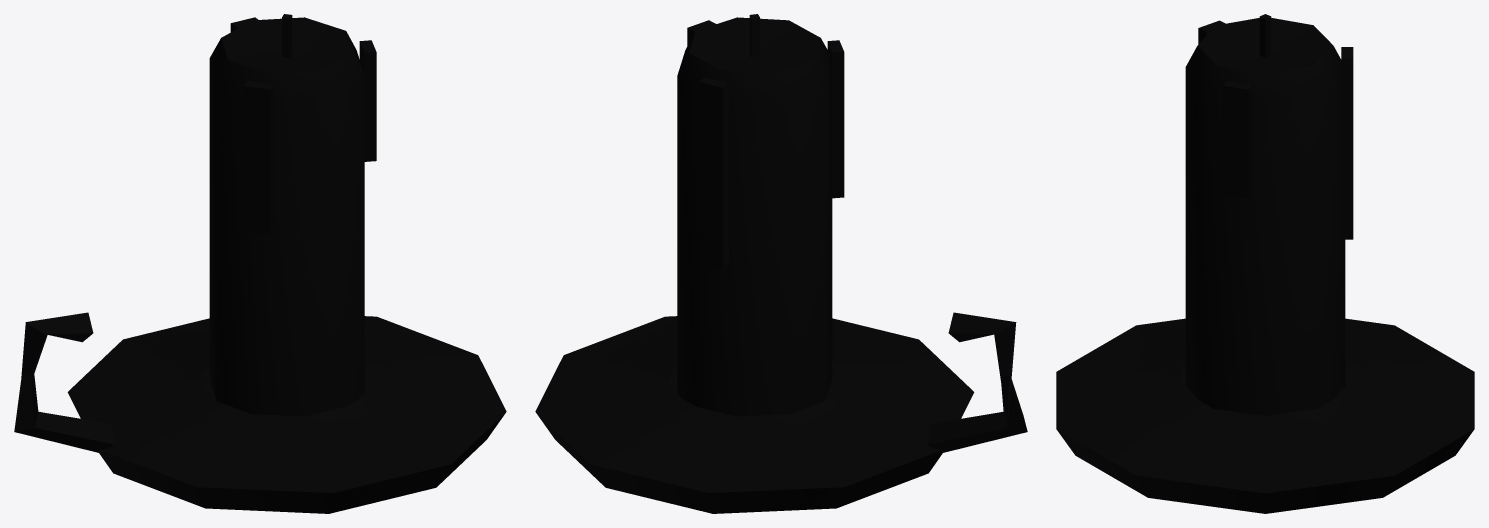
Rendered from SM_candle.fbx.
The picture shows the model from 3 angles, left to right: view 1: azimuth 30°, elevation 25°; view 2: azimuth 150°, elevation 25°; view 3: azimuth 270°, elevation 25°; orthographic projection.
Visible parts, largest first — view 1: candle; view 2: candle; view 3: candle.
Boxes of the visible parts, bbox=[...] form: candle: bbox=[14, 14, 506, 513]; candle: bbox=[535, 14, 1027, 513]; candle: bbox=[1056, 14, 1474, 513].
Bounding box in the file's own units: 0.1335 × 0.114 × 0.1046.
